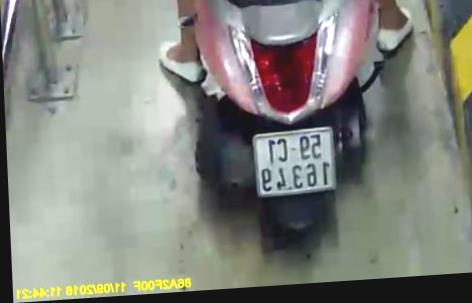License_Plate: (248, 122, 346, 203)
